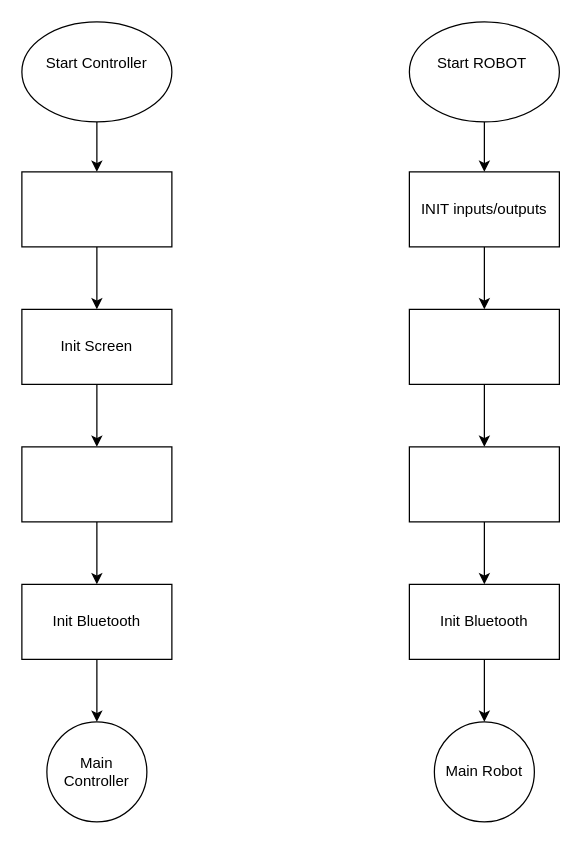
This 581x844 diagram has some shape labels left out. Each missing label, with the centre of its shape:
Init Encoder: the point at 96,484
init I/O: the point at 96,209
Init i2c: the point at 483,346
Init PWM and Relay: the point at 483,484
